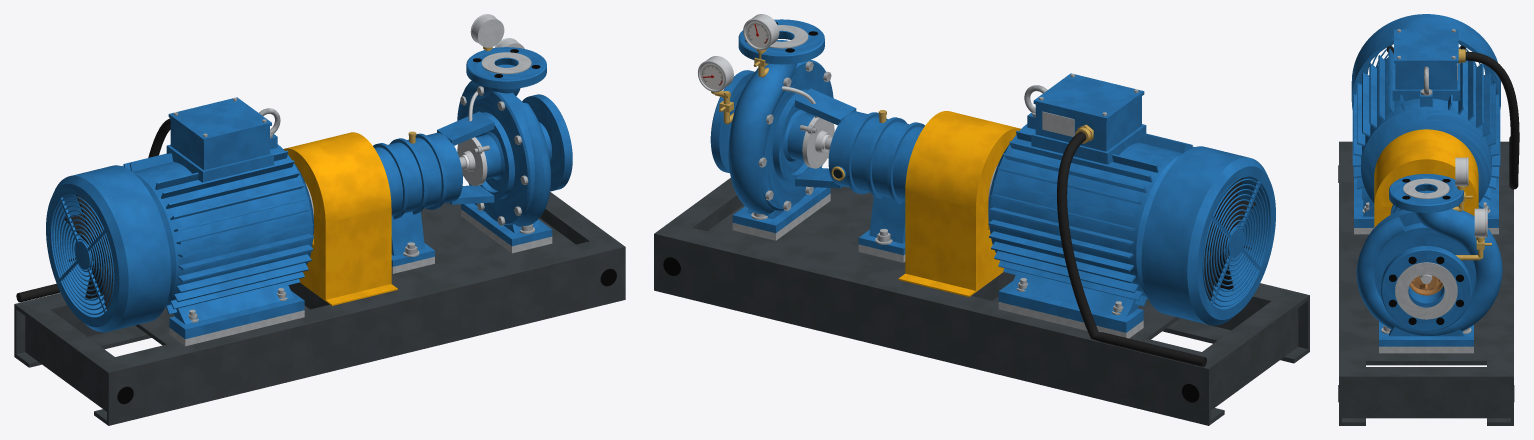
The model's file is pump-set.glb.
3 views of the same model, side by side, from view 1: azimuth 30°, elevation 25°; view 2: azimuth 150°, elevation 25°; view 3: azimuth 270°, elevation 25° (orthographic). The views are drawn at different scales.
Parts seen in each view (by area): view 1: base_frame, motor_frame, motor_cowl, guard_body, bearing_bracket, casing_body, cover_body, base_pads, motor_fan, gauge_cases, seal_mechanical, motor_cable (+1 smaller); view 2: base_frame, motor_frame, motor_cowl, guard_body, bearing_bracket, casing_body, cover_body, motor_cable, base_pads, motor_fan, seal_mechanical, gauge_cases (+3 smaller); view 3: base_frame, motor_frame, casing_body, guard_body, motor_cowl, casing_faces, motor_cable, base_pads, gauge_cases, casing_holes, gauge_fittings, impeller_body (+3 smaller).
Part boxes in pixels (x1,y1,x2,y2): base_frame: [14, 192, 625, 425]; motor_frame: [122, 97, 314, 339]; motor_cowl: [46, 165, 171, 332]; guard_body: [283, 132, 397, 305]; bearing_bracket: [373, 111, 514, 266]; casing_body: [457, 47, 572, 246]; cover_body: [465, 87, 535, 225]; base_pads: [169, 209, 552, 346]; motor_fan: [64, 194, 113, 309]; gauge_cases: [470, 14, 524, 48]; seal_mechanical: [457, 91, 487, 185]; motor_cable: [16, 118, 170, 302]; base_frame: [654, 178, 1309, 425]; motor_frame: [988, 73, 1194, 332]; motor_cowl: [1141, 146, 1275, 325]; guard_body: [898, 111, 1020, 296]; bearing_bracket: [772, 88, 924, 255]; casing_body: [710, 19, 830, 233]; cover_body: [760, 60, 833, 210]; motor_cable: [1057, 131, 1206, 367]; base_pads: [732, 193, 1143, 338]; motor_fan: [1203, 178, 1255, 300]; seal_mechanical: [782, 86, 834, 168]; gauge_cases: [698, 14, 779, 92]; base_frame: [1339, 141, 1513, 425]; motor_frame: [1352, 29, 1500, 227]; casing_body: [1356, 174, 1502, 346]; guard_body: [1374, 129, 1478, 227]; motor_cowl: [1351, 14, 1500, 109]; casing_faces: [1395, 178, 1457, 319]; motor_cable: [1465, 51, 1519, 189]; base_pads: [1354, 228, 1498, 353]; gauge_cases: [1455, 157, 1487, 237]; casing_holes: [1389, 179, 1463, 324]; gauge_fittings: [1452, 186, 1491, 260]; impeller_body: [1411, 275, 1441, 290].
Bounding box in the file's own units: 1.22 × 0.571 × 0.3989.
19 materials, 16 textured.
